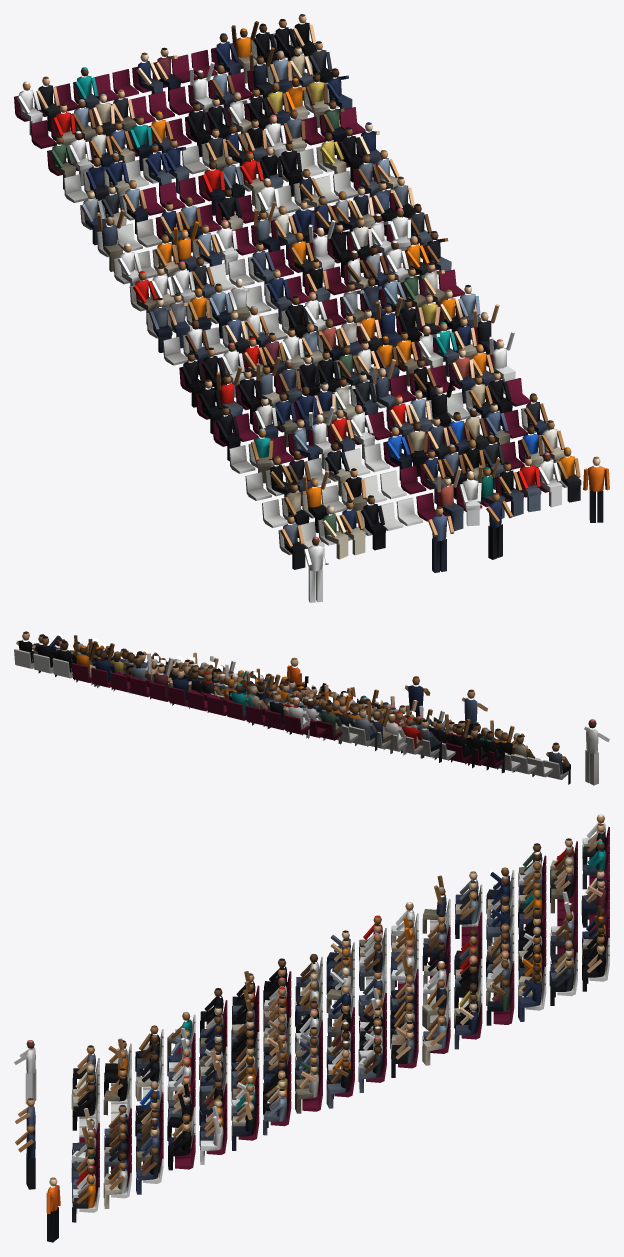
Rendered from stand_T3_kit_3.glb.
3 views of the same model, one above another, from view 1: azimuth 30°, elevation 25°; view 2: azimuth 150°, elevation 25°; view 3: azimuth 270°, elevation 25° (orthographic). The views are drawn at different scales.
Visible parts, largest first — view 1: kit_3; view 2: kit_3; view 3: kit_3.
Part boxes in pixels (box(x1,y1,x2,y2)): kit_3: box(14, 14, 609, 602); kit_3: box(14, 631, 609, 785); kit_3: box(14, 814, 609, 1242).
Size of the model in its own units: 8.81 by 8.21 by 14.96.
